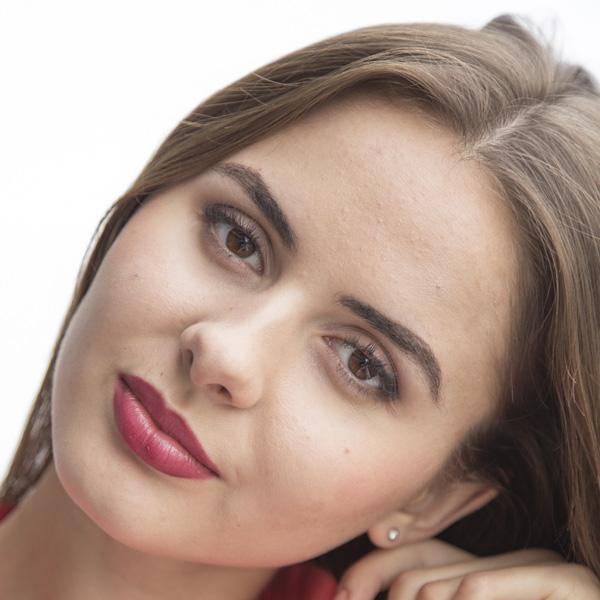Eyes: (310, 315, 405, 414), (193, 188, 275, 286)
